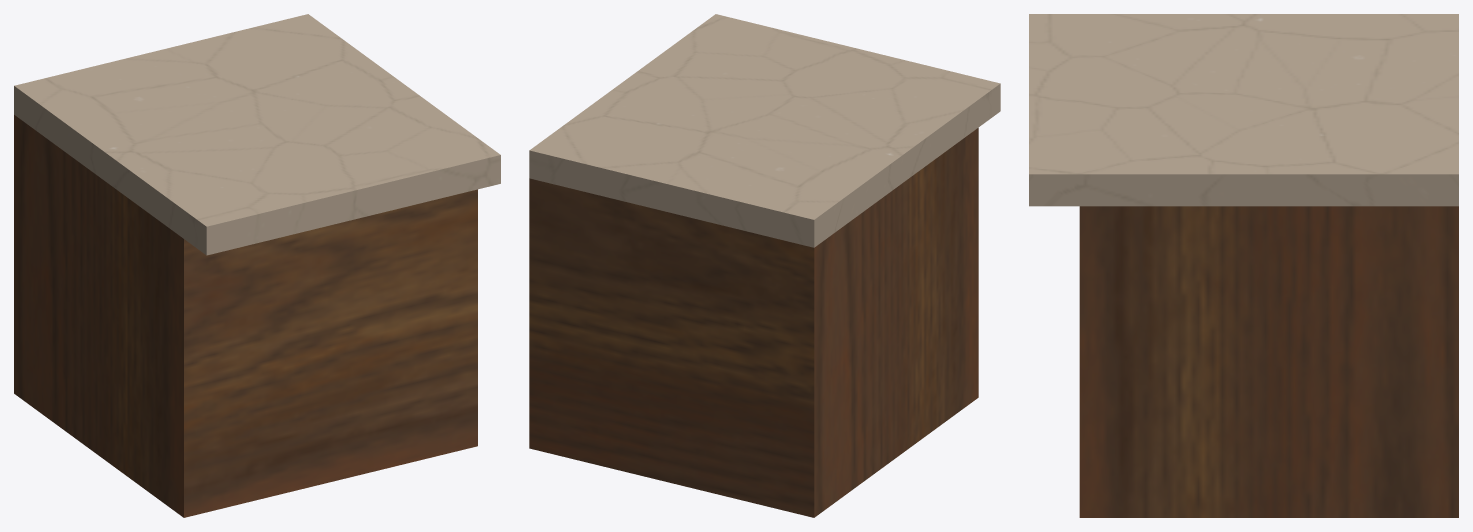
The model's file is Counter.fbx.
3 renders of one model, left to right at view 1: azimuth 30°, elevation 25°; view 2: azimuth 150°, elevation 25°; view 3: azimuth 270°, elevation 25°, orthographic. The views are drawn at different scales.
Parts seen in each view (by area): view 1: Counter; view 2: Counter; view 3: Counter.
Part boxes in pixels (left/top/right/bottom): Counter: left=14, top=14, right=500, bottom=517; Counter: left=529, top=14, right=1000, bottom=517; Counter: left=1029, top=14, right=1458, bottom=517.
Size of the model in its own units: 1 by 1 by 1.13.
